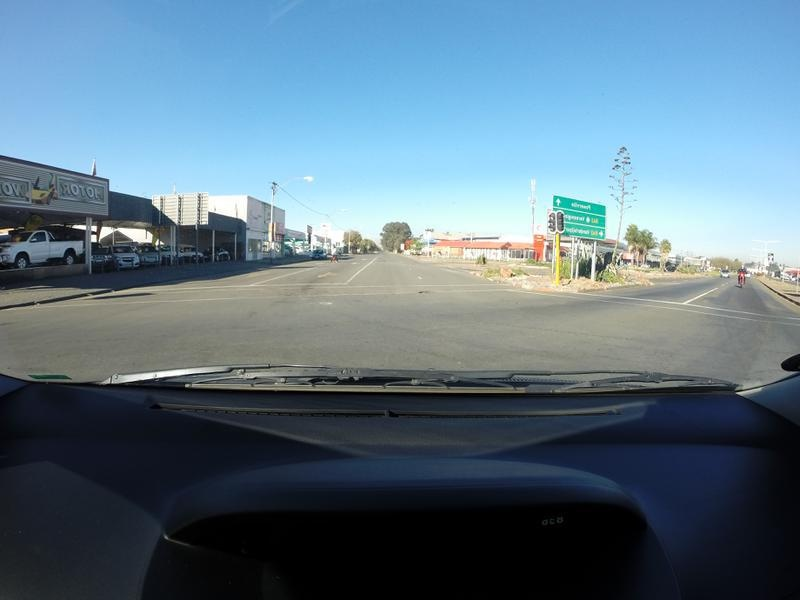pothole: (408, 286, 429, 291)
